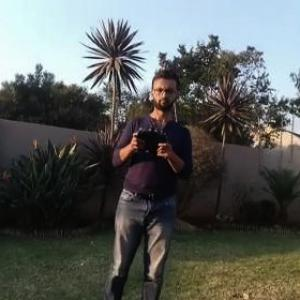follow: (93, 59, 194, 299)
